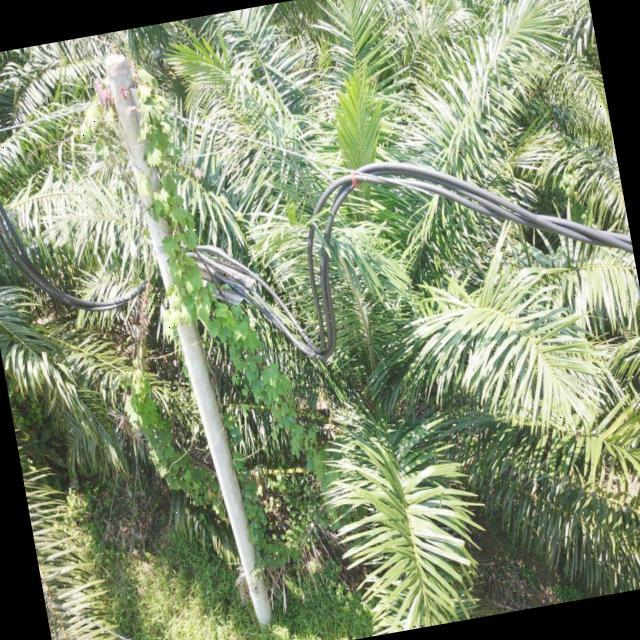critical vegetation: (65, 39, 362, 574)
